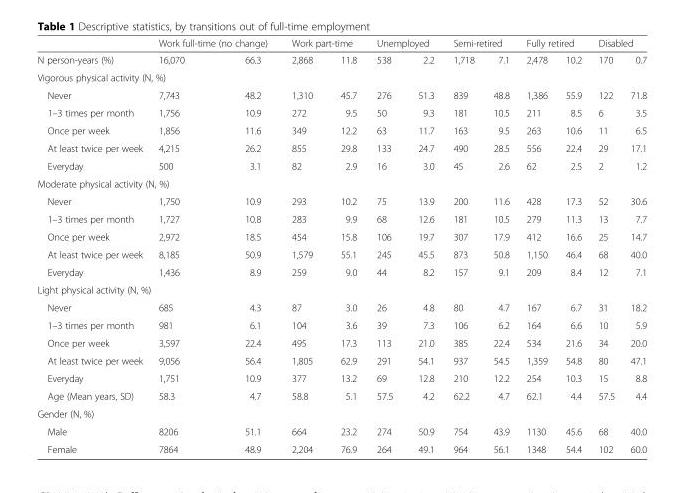table: (36, 37, 646, 454)
table column: (36, 37, 149, 454), (213, 37, 278, 454), (149, 37, 213, 454), (278, 37, 326, 454), (326, 37, 366, 454), (443, 37, 483, 454), (404, 37, 443, 454), (366, 37, 404, 454), (517, 37, 555, 454), (483, 37, 517, 454), (555, 37, 589, 454), (589, 37, 621, 454), (621, 37, 646, 454)
table column header: (36, 37, 646, 68)
table projected row header: (36, 174, 646, 192), (36, 280, 646, 298), (36, 404, 646, 422), (36, 68, 646, 85)
table row: (36, 85, 646, 103), (36, 103, 646, 121), (36, 121, 646, 139), (36, 156, 646, 174), (36, 174, 646, 192), (36, 209, 646, 227), (36, 227, 646, 245), (36, 262, 646, 280), (36, 280, 646, 298), (36, 298, 646, 316), (36, 333, 646, 351), (36, 351, 646, 369), (36, 386, 646, 404), (36, 404, 646, 422), (36, 51, 646, 68), (36, 68, 646, 85), (36, 139, 646, 156), (36, 192, 646, 209), (36, 245, 646, 262), (36, 316, 646, 333), (36, 369, 646, 386), (36, 422, 646, 439), (36, 439, 646, 454), (36, 37, 646, 51)
table spanning cell: (36, 37, 149, 68), (149, 37, 278, 51), (278, 37, 366, 51), (366, 37, 443, 51), (443, 37, 517, 51), (517, 37, 589, 51), (589, 37, 646, 51)
